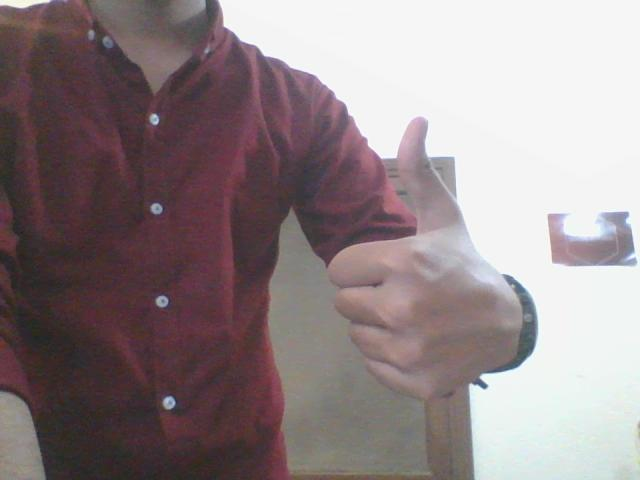thumbs-up: (335, 119, 509, 404)
